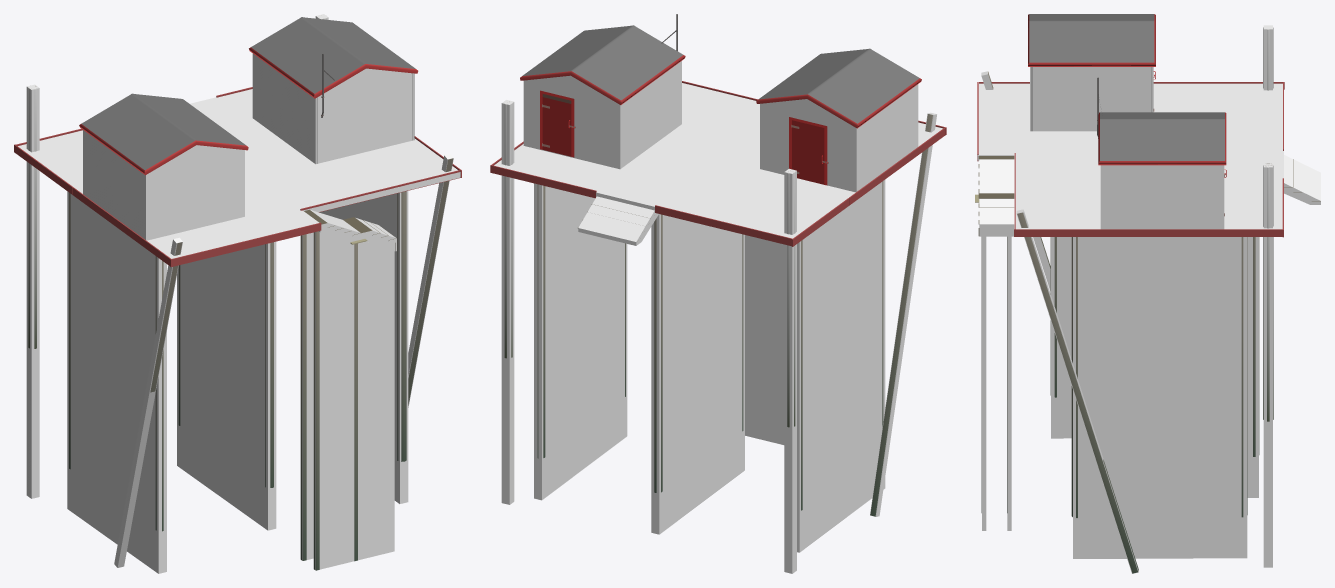
File: eca_bld_fv_small_shacks.DAE
The picture shows the model from 3 angles, left to right: view 1: azimuth 30°, elevation 25°; view 2: azimuth 150°, elevation 25°; view 3: azimuth 270°, elevation 25°; orthographic projection. The views are drawn at different scales.
Parts seen in each view (by area): view 1: Colmesh-1, eca_bld_fv_small_shacks250; view 2: Colmesh-1, eca_bld_fv_small_shacks250; view 3: Colmesh-1, eca_bld_fv_small_shacks250.
Boxes of the visible parts, x1,y1,x2,y2 form: Colmesh-1: (18,14,460,573); eca_bld_fv_small_shacks250: (14,17,461,570); Colmesh-1: (494,61,942,573); eca_bld_fv_small_shacks250: (490,14,946,516); Colmesh-1: (977,25,1320,573); eca_bld_fv_small_shacks250: (975,14,1320,573).
Size of the model in its own units: 11.41 by 11.25 by 16.27.
